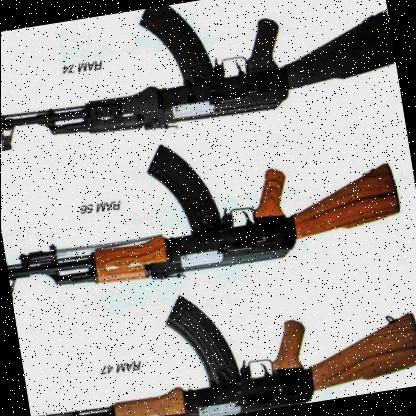rifle: (0, 104, 408, 304), (14, 252, 416, 416), (0, 0, 400, 157)
